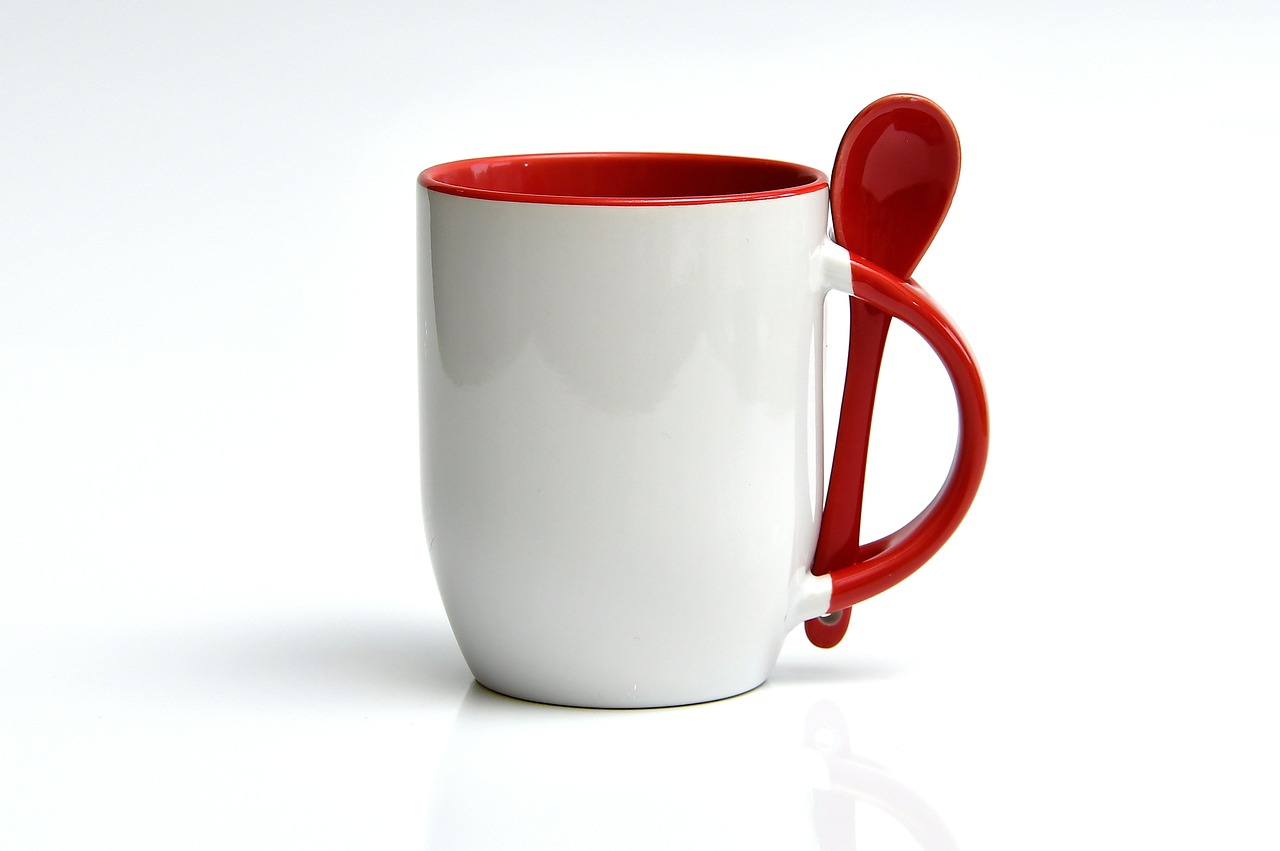mug: (369, 138, 1041, 771)
